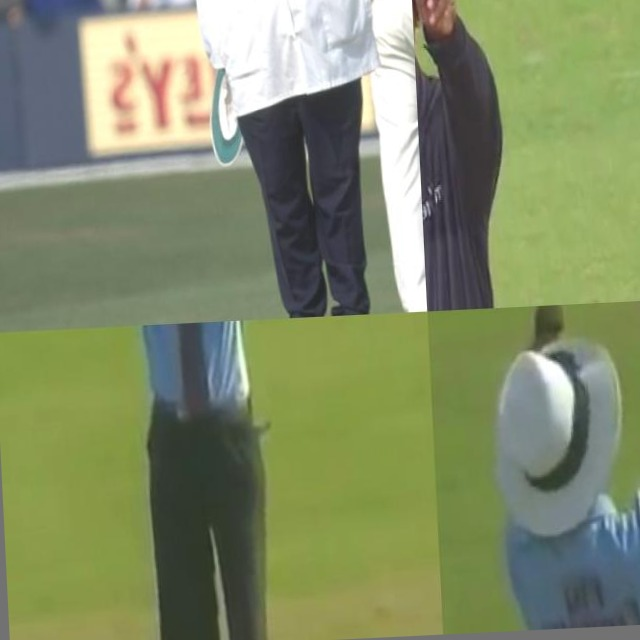Out: (165, 0, 427, 324), (409, 0, 578, 311)
Six: (68, 317, 332, 640), (458, 299, 640, 633)
